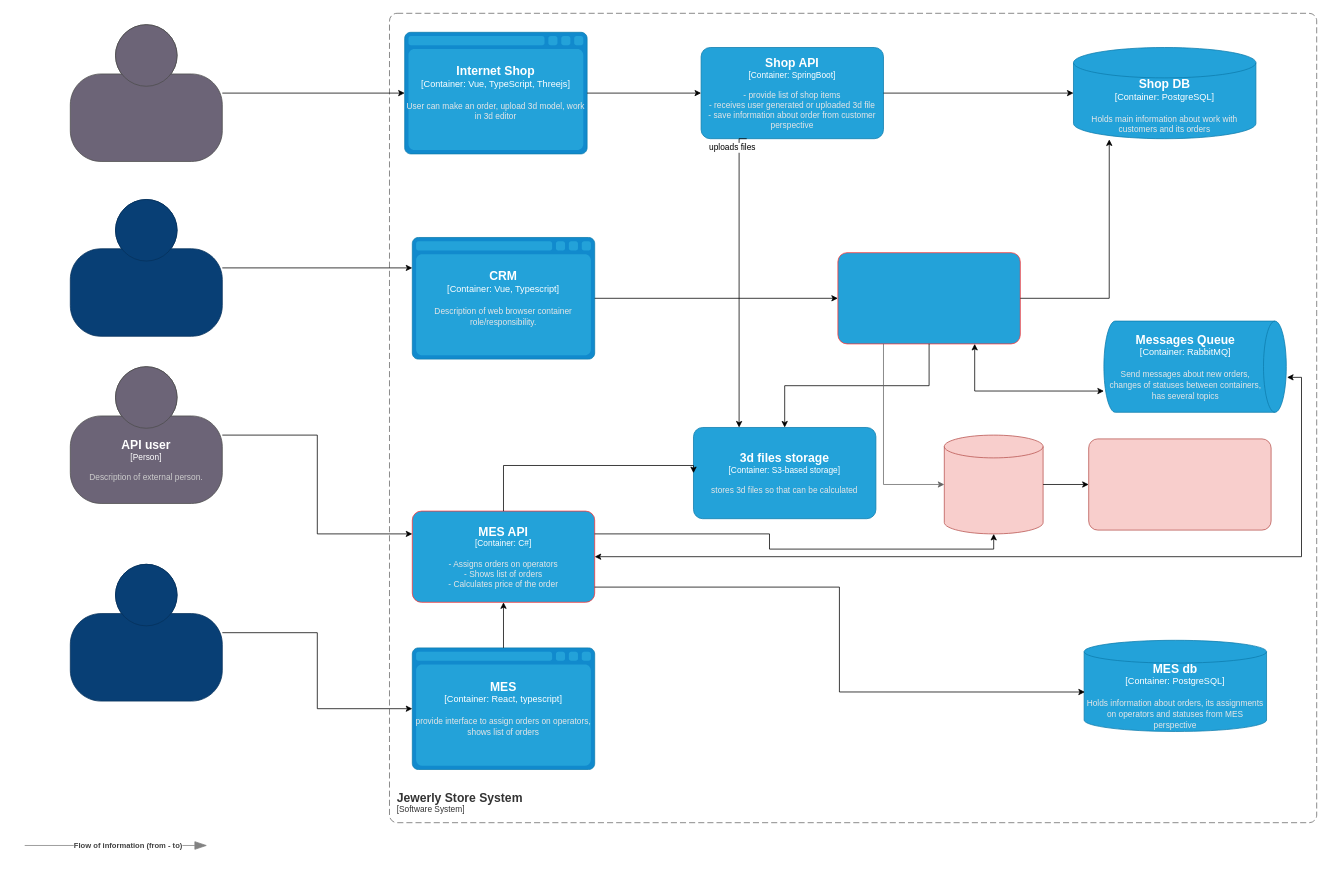
Image size: 1330x871. Some labels were removed from this diagram. Here are the shapes that lost their labels. From the top down, the box of each, then its label:
(70, 24, 222, 162): Customer [Person] Description of external person.
(70, 199, 222, 336): Seller [Person] Operates with order, confirms manufacturing for the user
(837, 252, 1020, 344): CRM API [Container: SpringBoot] Description of container role/responsibility.
(944, 434, 1043, 534): Jaeger [Container: Jaeger]
(1088, 438, 1271, 530): Jaeger UI [Container: Jaeger UI]
(70, 564, 222, 701): Operator [Person] Takes order in work, manufactures jewerly
